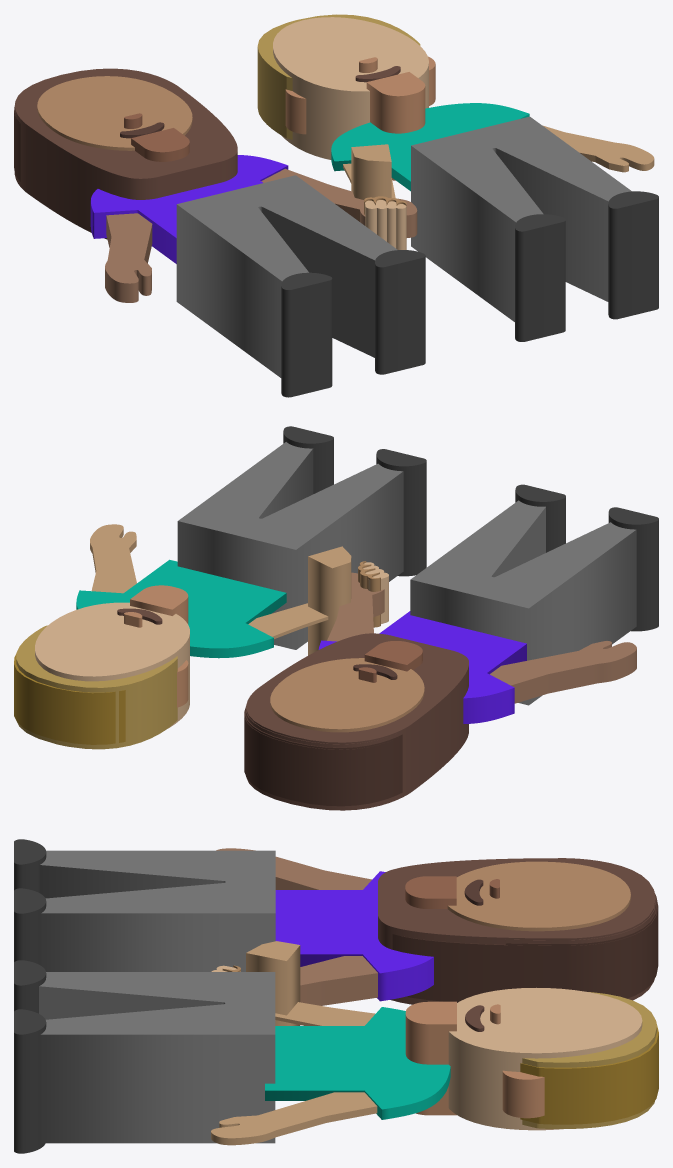
File: emoji_u1f469_1f3fd_200d_1f91d_200d_1f468_1f3fc.glb
3 renders of one model, top to bottom at view 1: azimuth 30°, elevation 25°; view 2: azimuth 150°, elevation 25°; view 3: azimuth 270°, elevation 25°, orthographic. The views are drawn at different scales.
Parts seen in each view (by area): view 1: emoji_u1f469_1f3fd_200d_1f91d_200d_1f468_1f3fc; view 2: emoji_u1f469_1f3fd_200d_1f91d_200d_1f468_1f3fc; view 3: emoji_u1f469_1f3fd_200d_1f91d_200d_1f468_1f3fc.
Part boxes in pixels (x1,y1,x2,y2): emoji_u1f469_1f3fd_200d_1f91d_200d_1f468_1f3fc: (14,14,658,397); emoji_u1f469_1f3fd_200d_1f91d_200d_1f468_1f3fc: (14,426,658,810); emoji_u1f469_1f3fd_200d_1f91d_200d_1f468_1f3fc: (14,839,658,1153).
Size of the model in its own units: 0.0346 by 0.0068 by 0.0334.
